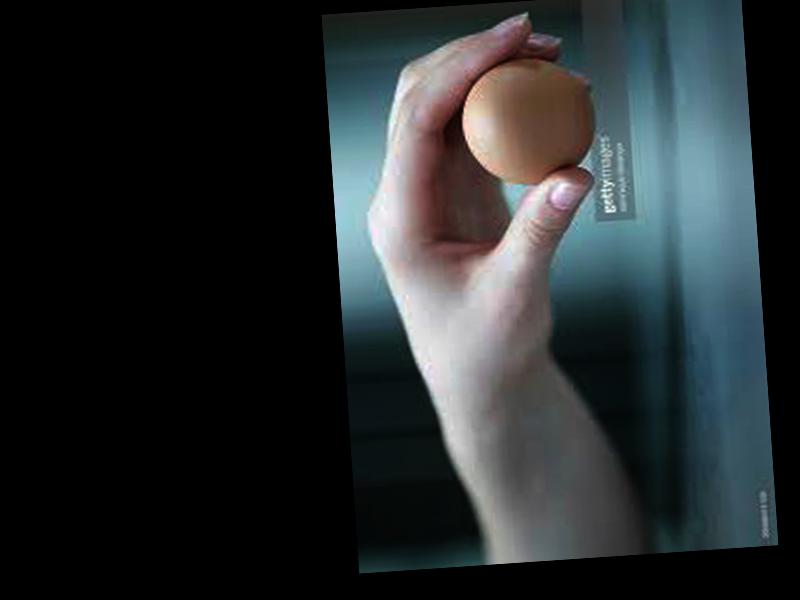Eggs: (456, 54, 601, 191)
